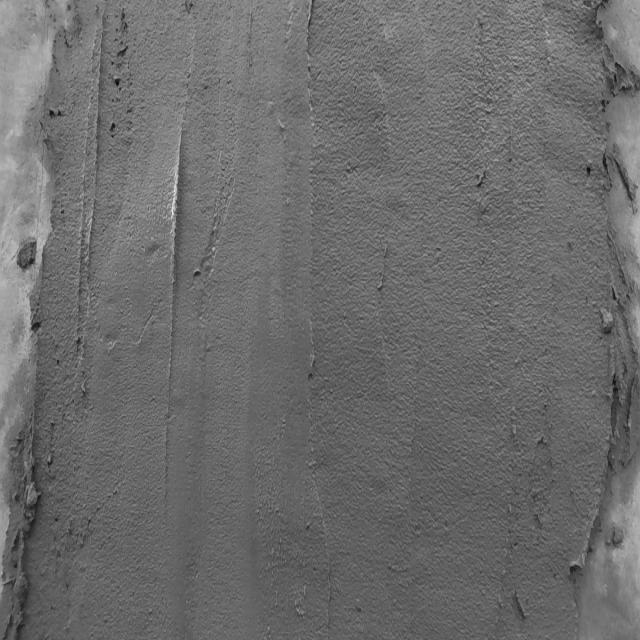trowels marks: (158, 103, 184, 510), (77, 11, 102, 347)
